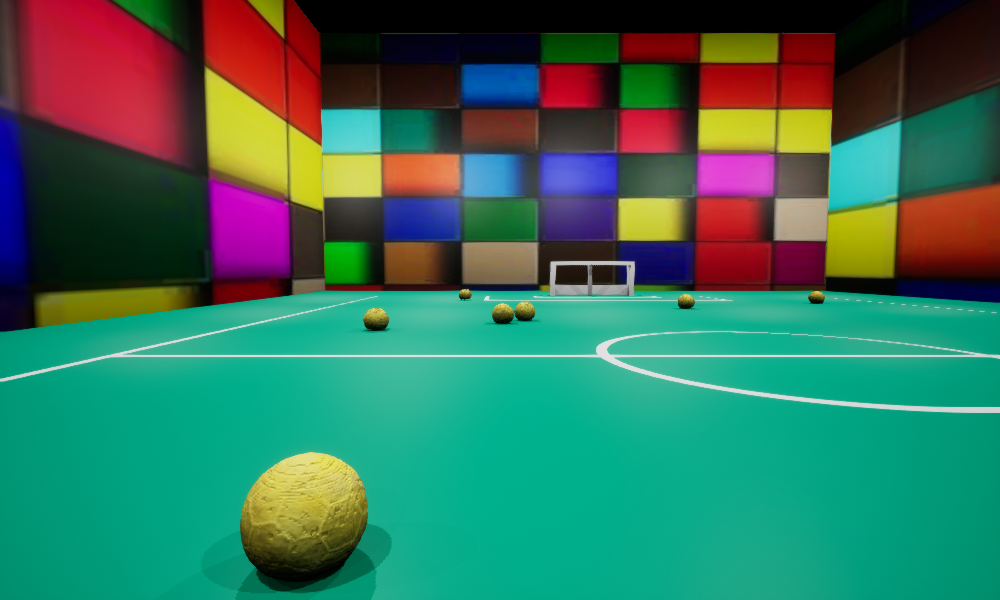b: (240, 452, 367, 581), (363, 308, 388, 330), (492, 303, 513, 323), (514, 302, 534, 320), (678, 294, 694, 308), (808, 291, 824, 303), (459, 289, 471, 299)
g: (550, 261, 634, 295)
